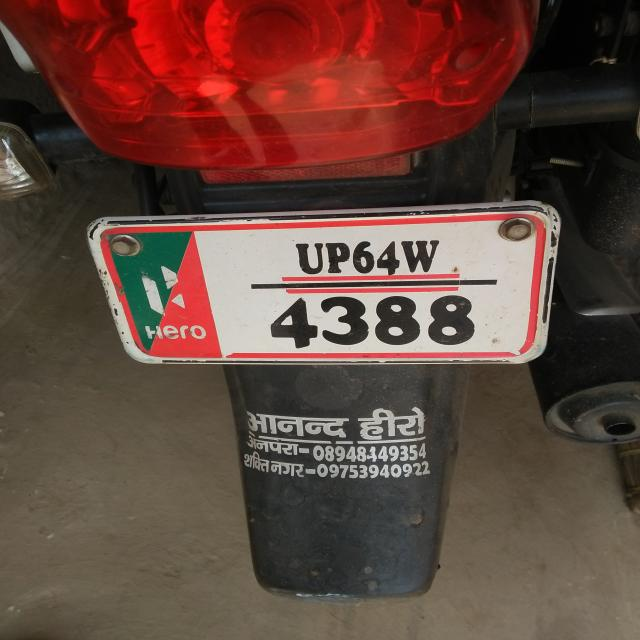number_plate: (84, 197, 564, 368)
